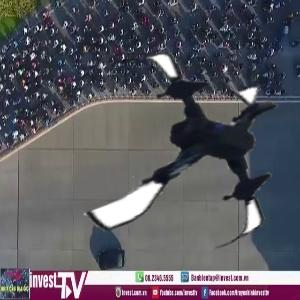drone: (69, 42, 295, 268)
